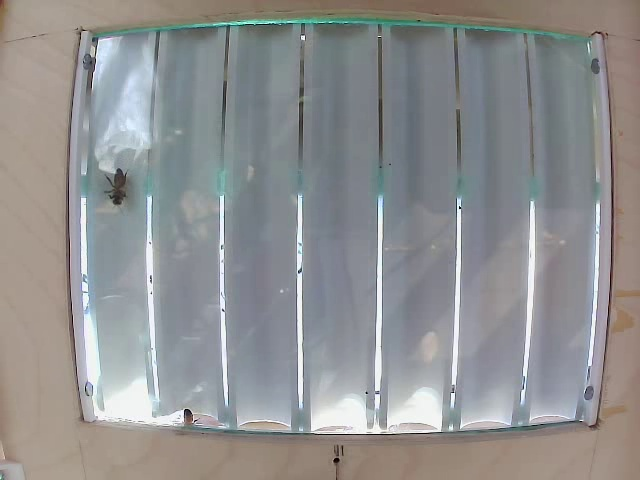bee: (100, 160, 145, 208)
